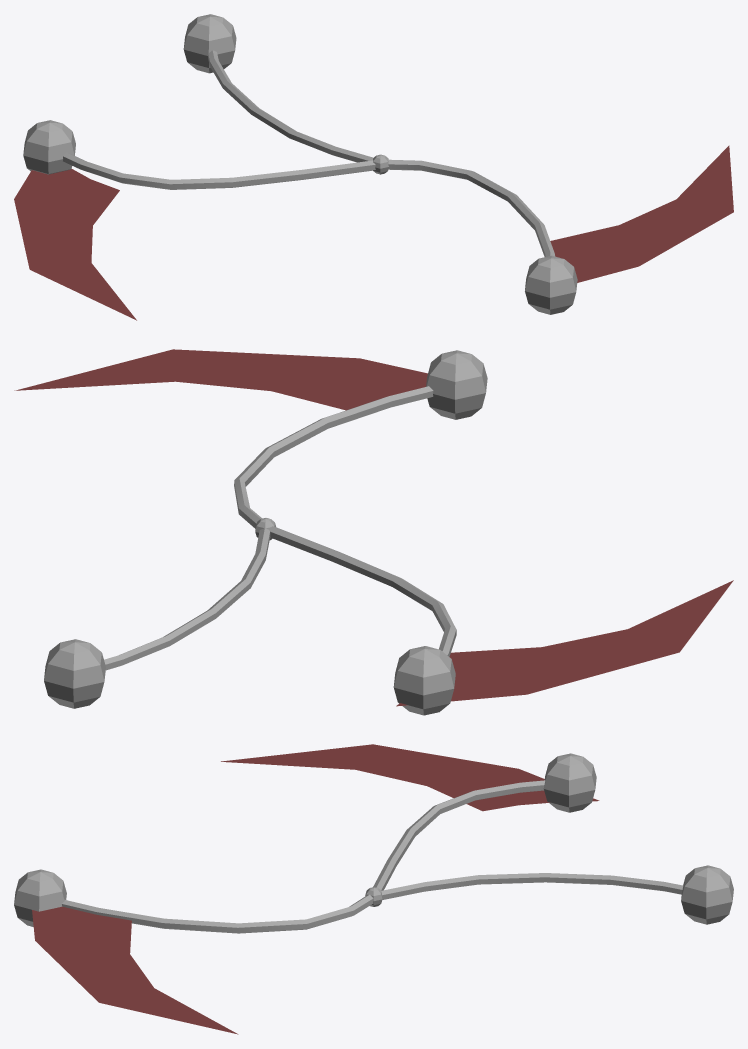
Rendered from BoleadoraSeminario.fbx.
The picture shows the model from 3 angles, top to bottom: view 1: azimuth 30°, elevation 25°; view 2: azimuth 150°, elevation 25°; view 3: azimuth 270°, elevation 25°; orthographic projection. The views are drawn at different scales.
Visible parts, largest first — view 1: pPlane4, pPlane3, pCylinder4, pSphere1, pSphere5, pSphere6, pCylinder2, pCylinder3; view 2: pPlane3, pPlane4, pSphere5, pSphere6, pSphere1, pCylinder2, pCylinder4, pCylinder3; view 3: pPlane3, pPlane4, pCylinder2, pCylinder3, pSphere5, pSphere6, pCylinder4, pSphere1.
Boxes of the visible parts, x1,y1,x2,y2 form: pPlane4: [14, 169, 136, 320]; pPlane3: [550, 145, 733, 282]; pCylinder4: [63, 153, 375, 189]; pSphere1: [525, 255, 577, 314]; pSphere5: [183, 14, 236, 73]; pSphere6: [23, 120, 75, 174]; pCylinder2: [388, 159, 555, 256]; pCylinder3: [208, 50, 373, 162]; pPlane3: [14, 349, 427, 410]; pPlane4: [396, 580, 733, 706]; pSphere5: [44, 639, 105, 708]; pSphere6: [393, 646, 455, 715]; pSphere1: [426, 350, 487, 419]; pCylinder2: [234, 386, 433, 528]; pCylinder4: [269, 526, 456, 656]; pCylinder3: [104, 528, 270, 670]; pPlane3: [32, 906, 238, 1034]; pPlane4: [221, 744, 599, 811]; pCylinder2: [62, 894, 373, 933]; pCylinder3: [381, 873, 683, 899]; pSphere5: [681, 865, 733, 924]; pSphere6: [543, 753, 596, 812]; pCylinder4: [373, 780, 545, 890]; pSphere1: [14, 869, 66, 926].
Bounding box in the file's own units: 9.82 × 0.8 × 9.65.
